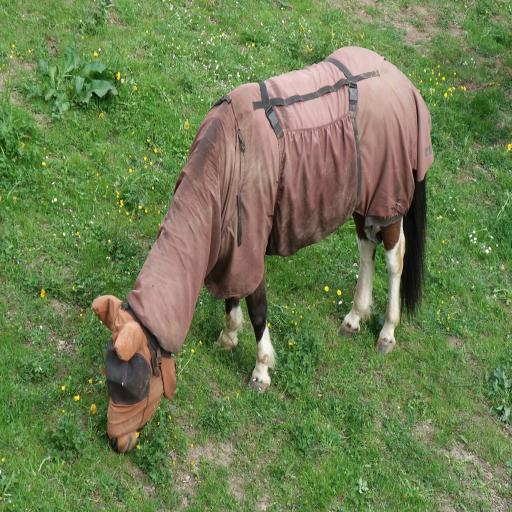horse: (90, 45, 428, 458)
